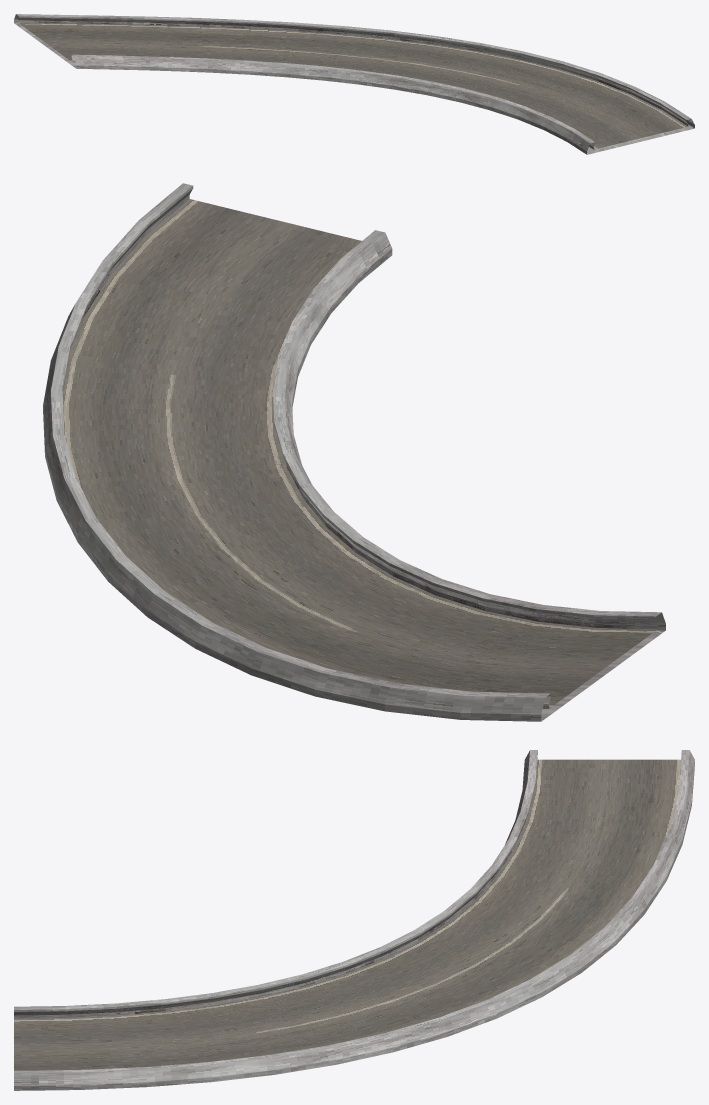
The model's file is road-Turn-Flat-BiSlopeUp-Up1-Left-Size4.glb.
3 renders of one model, top to bottom at view 1: azimuth 30°, elevation 25°; view 2: azimuth 150°, elevation 25°; view 3: azimuth 270°, elevation 25°, orthographic. The views are drawn at different scales.
Visible parts, largest first — view 1: road-Turn-Flat-BiSlopeUp-Up1-Left-Size4; view 2: road-Turn-Flat-BiSlopeUp-Up1-Left-Size4; view 3: road-Turn-Flat-BiSlopeUp-Up1-Left-Size4.
Boxes of the visible parts, <box> form: road-Turn-Flat-BiSlopeUp-Up1-Left-Size4: <box>14,14,694,154</box>; road-Turn-Flat-BiSlopeUp-Up1-Left-Size4: <box>43,183,665,721</box>; road-Turn-Flat-BiSlopeUp-Up1-Left-Size4: <box>14,750,694,1090</box>.
Size of the model in its own units: 4 by 0.4259 by 4.
2 materials, 2 textured.
